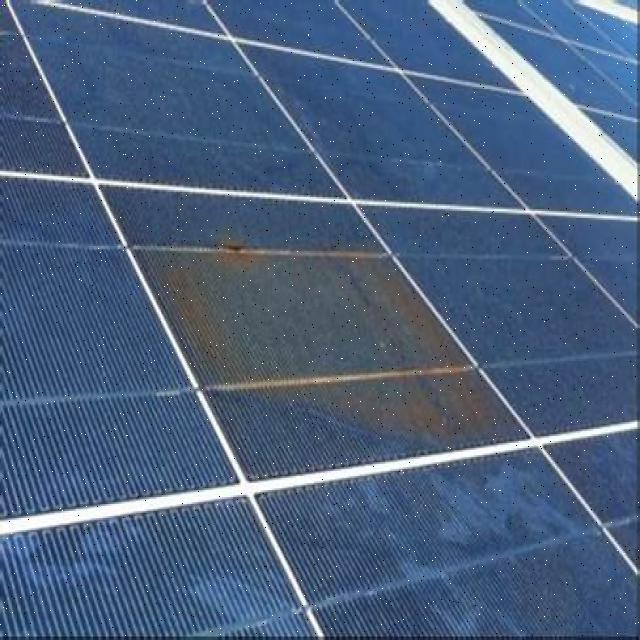electrical damage: (135, 240, 536, 491)
